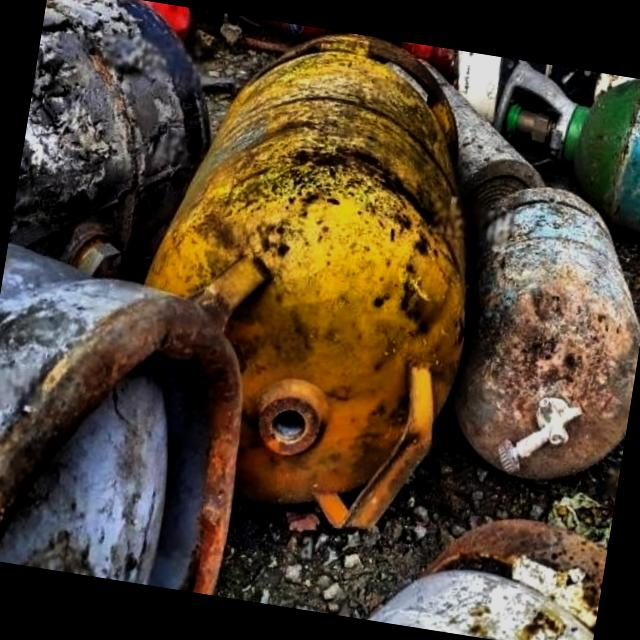Cylinders: (140, 33, 464, 532), (461, 185, 633, 481)
